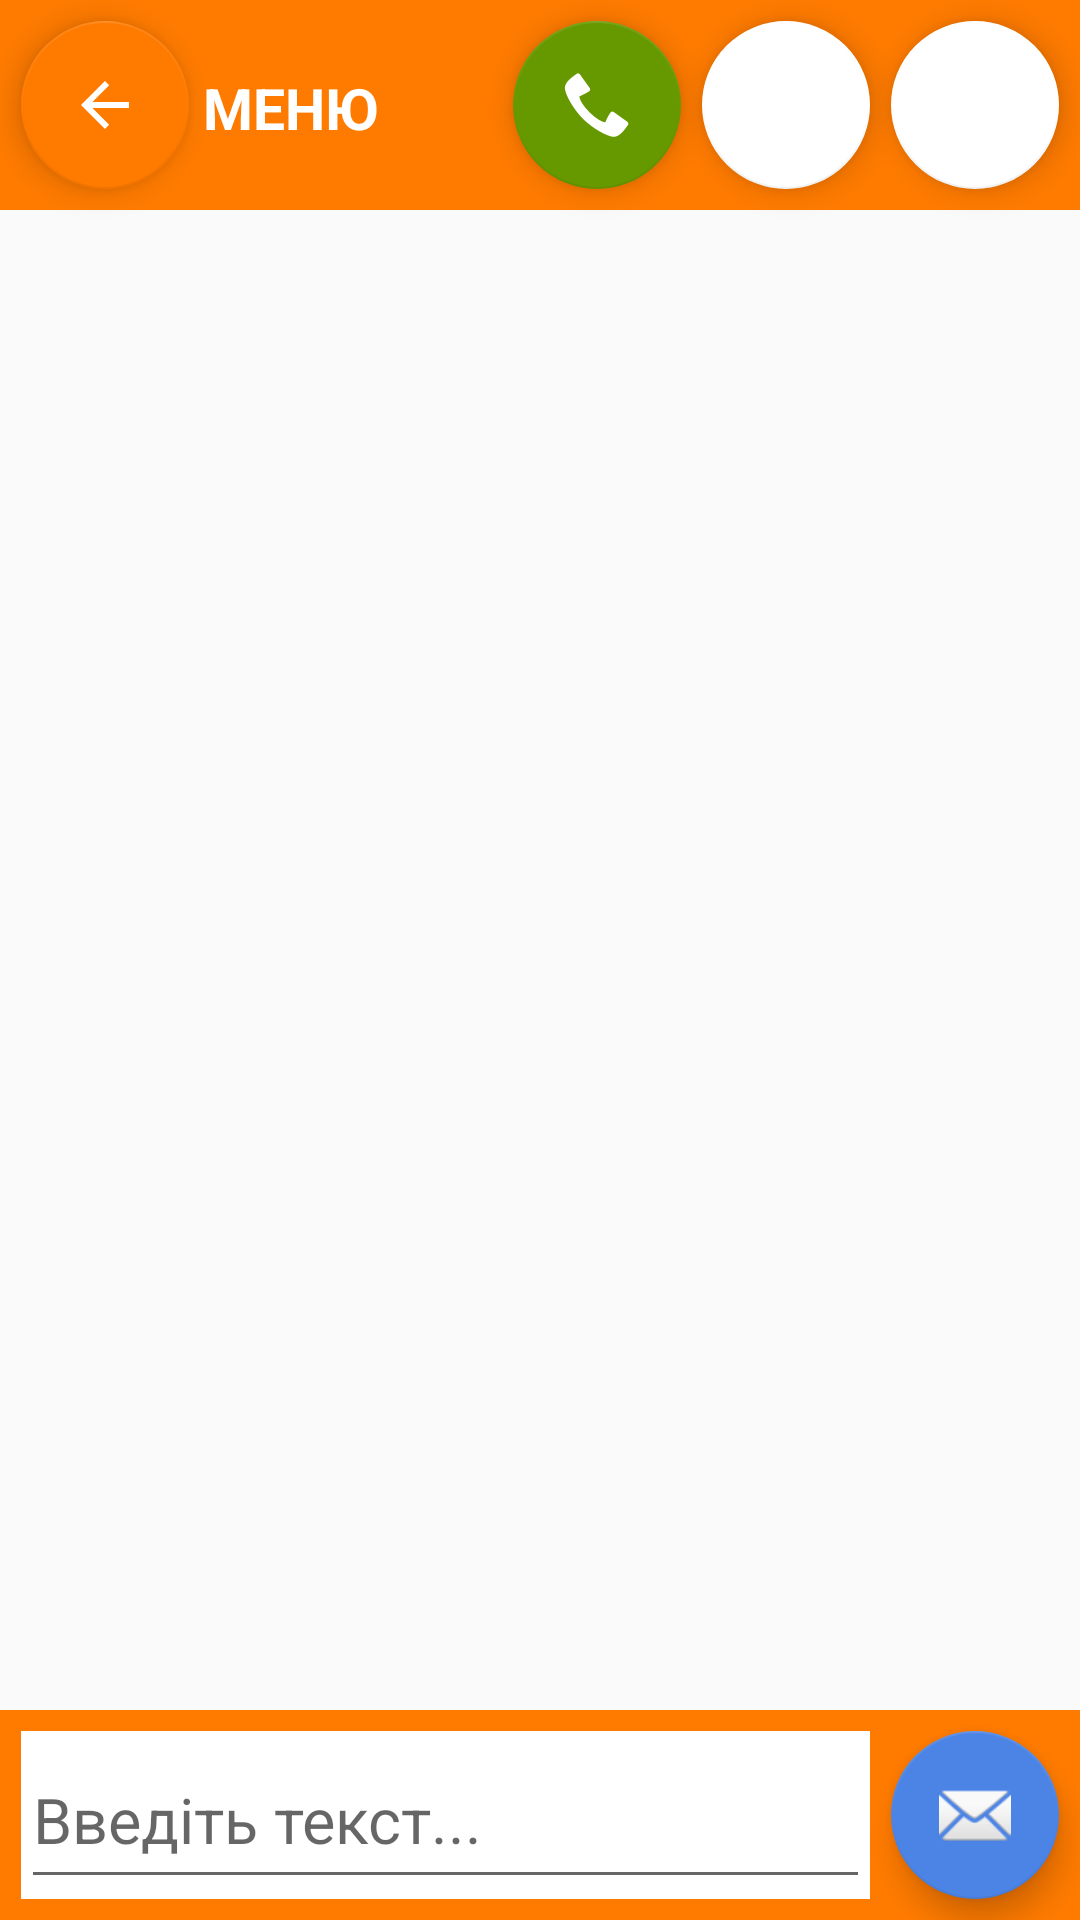

Where to tap for icons on this 1080 × 1920 app screen, as (x,y):
email: (975,1815)
phone call: (597,105)
